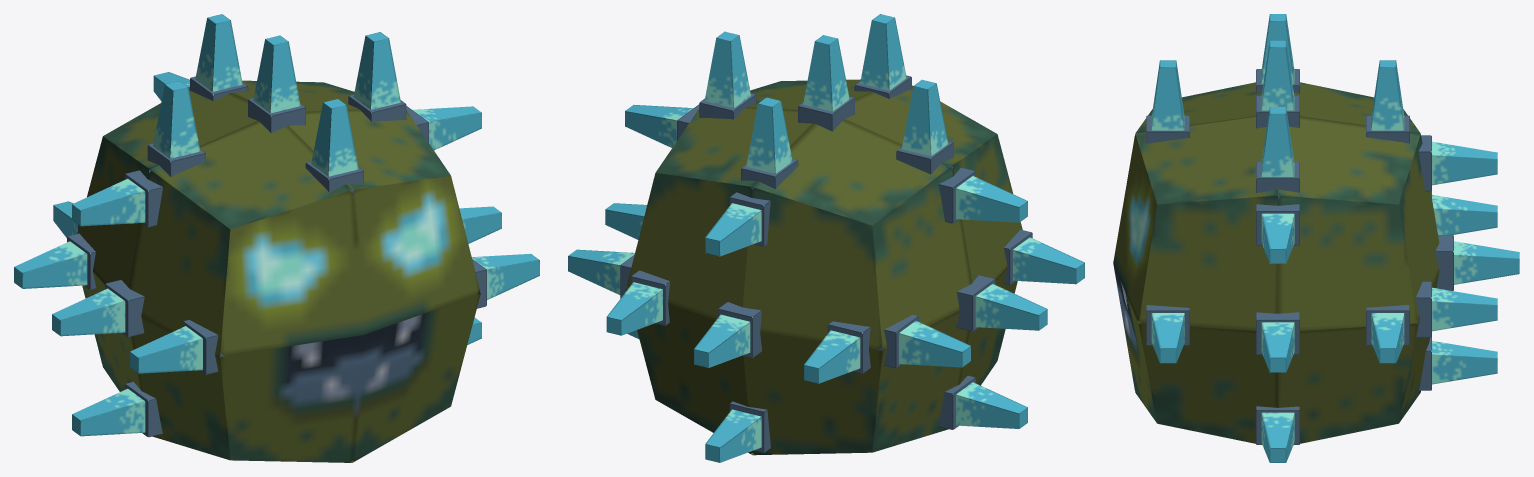
Rendered from Flu_Burung.fbx.
3 renders of one model, left to right at view 1: azimuth 30°, elevation 25°; view 2: azimuth 150°, elevation 25°; view 3: azimuth 270°, elevation 25°, orthographic. The views are drawn at different scales.
Visible parts, largest first — view 1: Body, cube, cube_1, cube_4, cube_2, cube_3, cube_21, cube_22, cube_24, cube_23, cube_20, cube_10 (+13 smaller); view 2: Body, cube, cube_1, cube_3, cube_4, cube_2, cube_21, cube_23, cube_22, cube_24, cube_20, cube_32 (+22 smaller); view 3: Body, cube_31, cube_34, cube_33, cube_30, cube_32, cube_1, cube_2, cube_3, cube, cube_14, cube_12 (+17 smaller).
Part boxes in pixels (<box>): Body: <box>77,80,480,462</box>; cube: <box>253,35,300,116</box>; cube_1: <box>195,14,242,95</box>; cube_4: <box>153,81,200,162</box>; cube_2: <box>311,99,358,179</box>; cube_3: <box>353,32,400,113</box>; cube_21: <box>52,288,128,336</box>; cube_22: <box>72,178,148,226</box>; cube_24: <box>72,388,148,436</box>; cube_23: <box>14,241,90,288</box>; cube_20: <box>130,326,206,373</box>; cube_10: <box>472,253,539,299</box>; Body: <box>626,79,1022,455</box>; cube: <box>803,35,849,115</box>; cube_1: <box>746,97,792,177</box>; cube_3: <box>704,31,751,111</box>; cube_4: <box>902,80,948,159</box>; cube_2: <box>860,14,906,93</box>; cube_21: <box>972,284,1047,330</box>; cube_23: <box>895,320,970,367</box>; cube_22: <box>952,176,1027,222</box>; cube_24: <box>952,382,1027,428</box>; cube_20: <box>1009,237,1084,284</box>; cube_32: <box>804,330,862,383</box>; Body: <box>1113,82,1439,445</box>; cube_31: <box>1453,241,1519,284</box>; cube_34: <box>1431,287,1497,331</box>; cube_33: <box>1431,341,1497,384</box>; cube_30: <box>1431,141,1497,185</box>; cube_32: <box>1432,195,1497,234</box>; cube_1: <box>1371,60,1404,130</box>; cube_2: <box>1151,60,1184,130</box>; cube_3: <box>1261,107,1294,176</box>; cube: <box>1261,40,1294,110</box>; cube_14: <box>1261,412,1294,462</box>; cube_12: <box>1261,213,1294,263</box>.
Bounding box in the file's own units: 275 × 231 × 231.
Materials: 2 (2 with a texture image).
